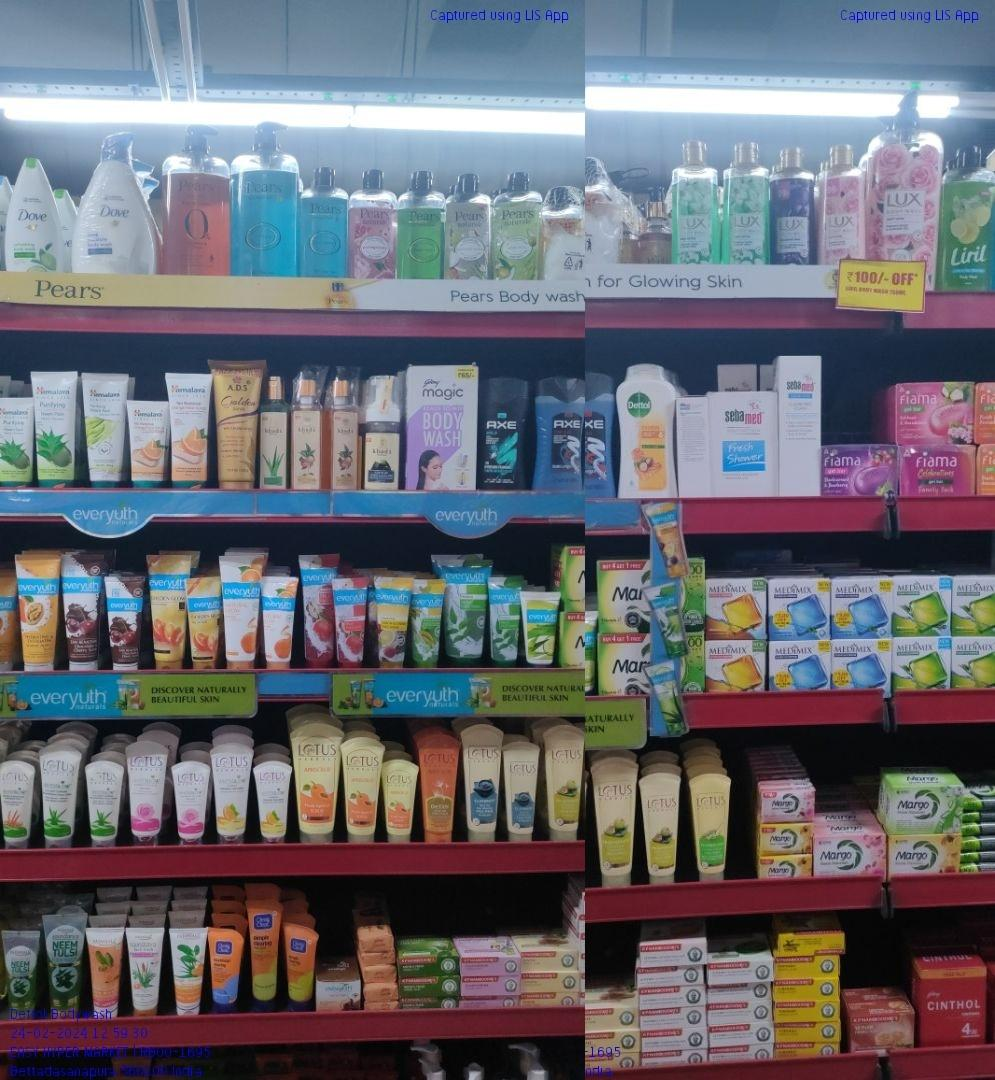Dettol_Nourish_Body_Wash_250ML: (617, 365, 674, 497)
Lux_Black_Orchid_Scent_and_Juniper_Oil_Body_Wash_245ML: (771, 146, 814, 263)
Lux_Body_Wash_Skin_Detox_Freesia_Scent_and_Alove_Vera_245ML: (673, 140, 719, 264), (726, 141, 766, 262)
Pears_Naturale_Aloe_Vera_Body_Wash_250ML: (493, 170, 541, 279)
Pears_Pure_Glycerin_and_Mint_Extracts_Body_Wash_250ML: (301, 165, 349, 276)
